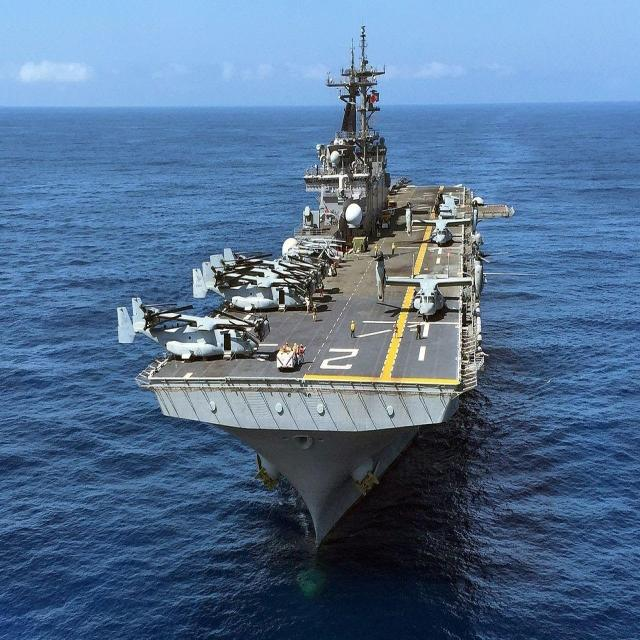navalvessels: (124, 19, 533, 536)
